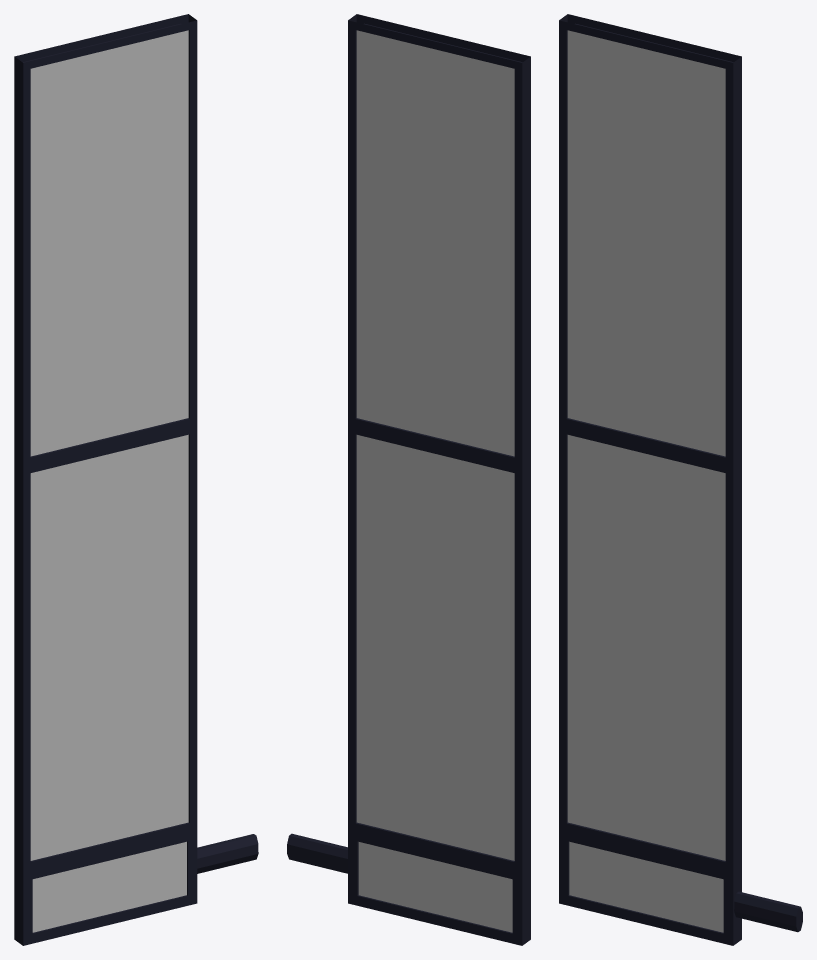
File: Sign_BigStreet14.fbx
The picture shows the model from 3 angles, left to right: view 1: azimuth 30°, elevation 25°; view 2: azimuth 150°, elevation 25°; view 3: azimuth 330°, elevation 25°; orthographic projection.
Parts seen in each view (by area): view 1: Cube.549; view 2: Cube.549; view 3: Cube.549.
Part boxes in pixels (left/top/right/bottom): Cube.549: left=14, top=14, right=258, bottom=945; Cube.549: left=287, top=14, right=530, bottom=945; Cube.549: left=559, top=14, right=802, bottom=945.
Bounding box in the file's own units: 94.34 × 337 × 6.01.
